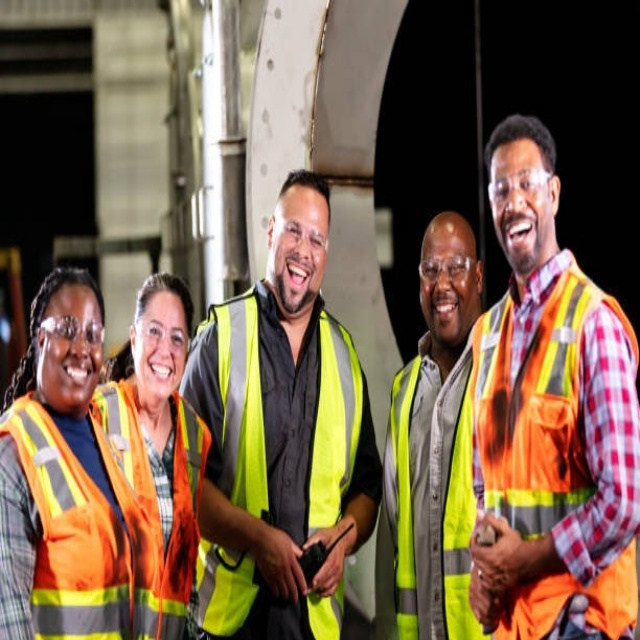Gafas: (490, 167, 554, 204), (273, 217, 329, 256), (40, 314, 107, 345), (419, 255, 476, 283), (136, 320, 189, 350)
Sin_guantes: (468, 514, 518, 623), (299, 518, 352, 598), (257, 518, 306, 603)
Sin_mascara: (506, 219, 534, 245), (61, 360, 91, 382), (286, 262, 310, 288), (431, 295, 459, 317), (148, 361, 174, 380)
